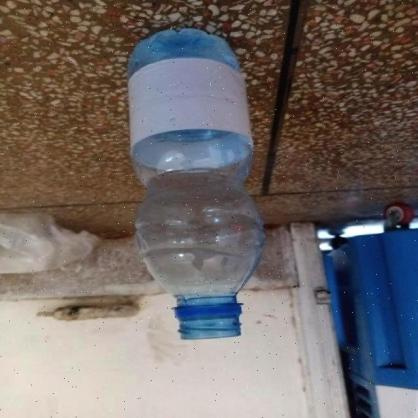bottle: (117, 19, 265, 347)
label: (117, 50, 259, 159)
